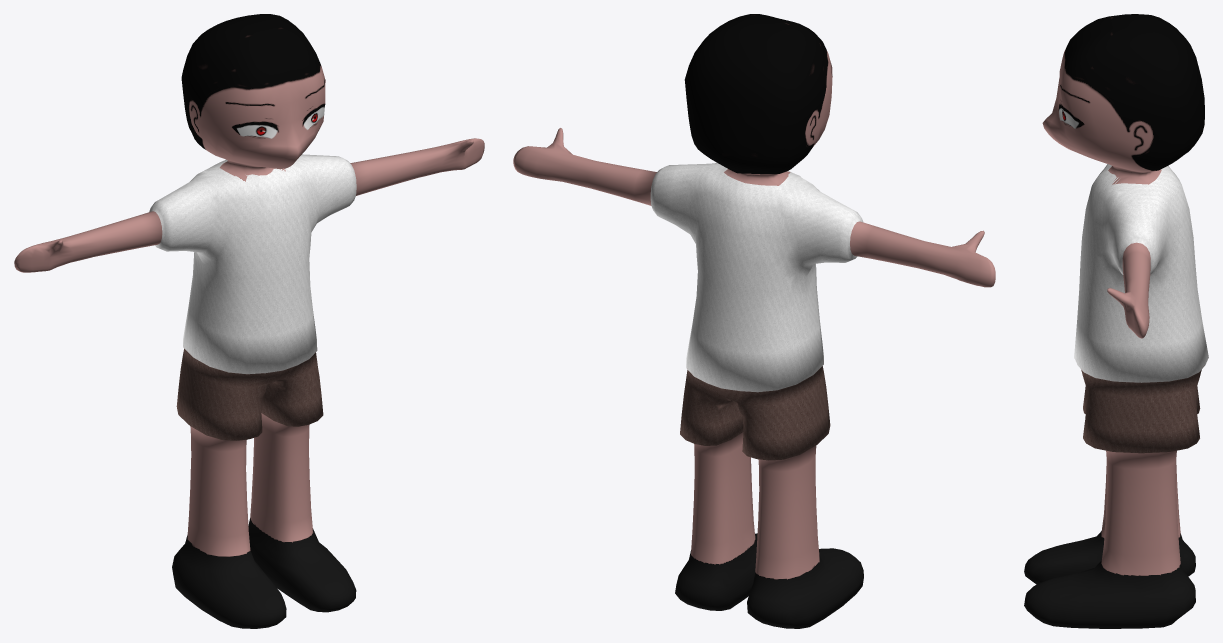
File: Mate1_Final.fbx
3 renders of one model, left to right at view 1: azimuth 30°, elevation 25°; view 2: azimuth 150°, elevation 25°; view 3: azimuth 270°, elevation 25°, orthographic. The views are drawn at different scales.
Visible parts, largest first — view 1: Mate_Final; view 2: Mate_Final; view 3: Mate_Final.
Part boxes in pixels (bbox=[...]): Mate_Final: bbox=[14, 14, 484, 628]; Mate_Final: bbox=[513, 14, 995, 628]; Mate_Final: bbox=[1024, 14, 1208, 628].
Bounding box in the file's own units: 168 × 192 × 56.18.
1 material, 1 textured.
